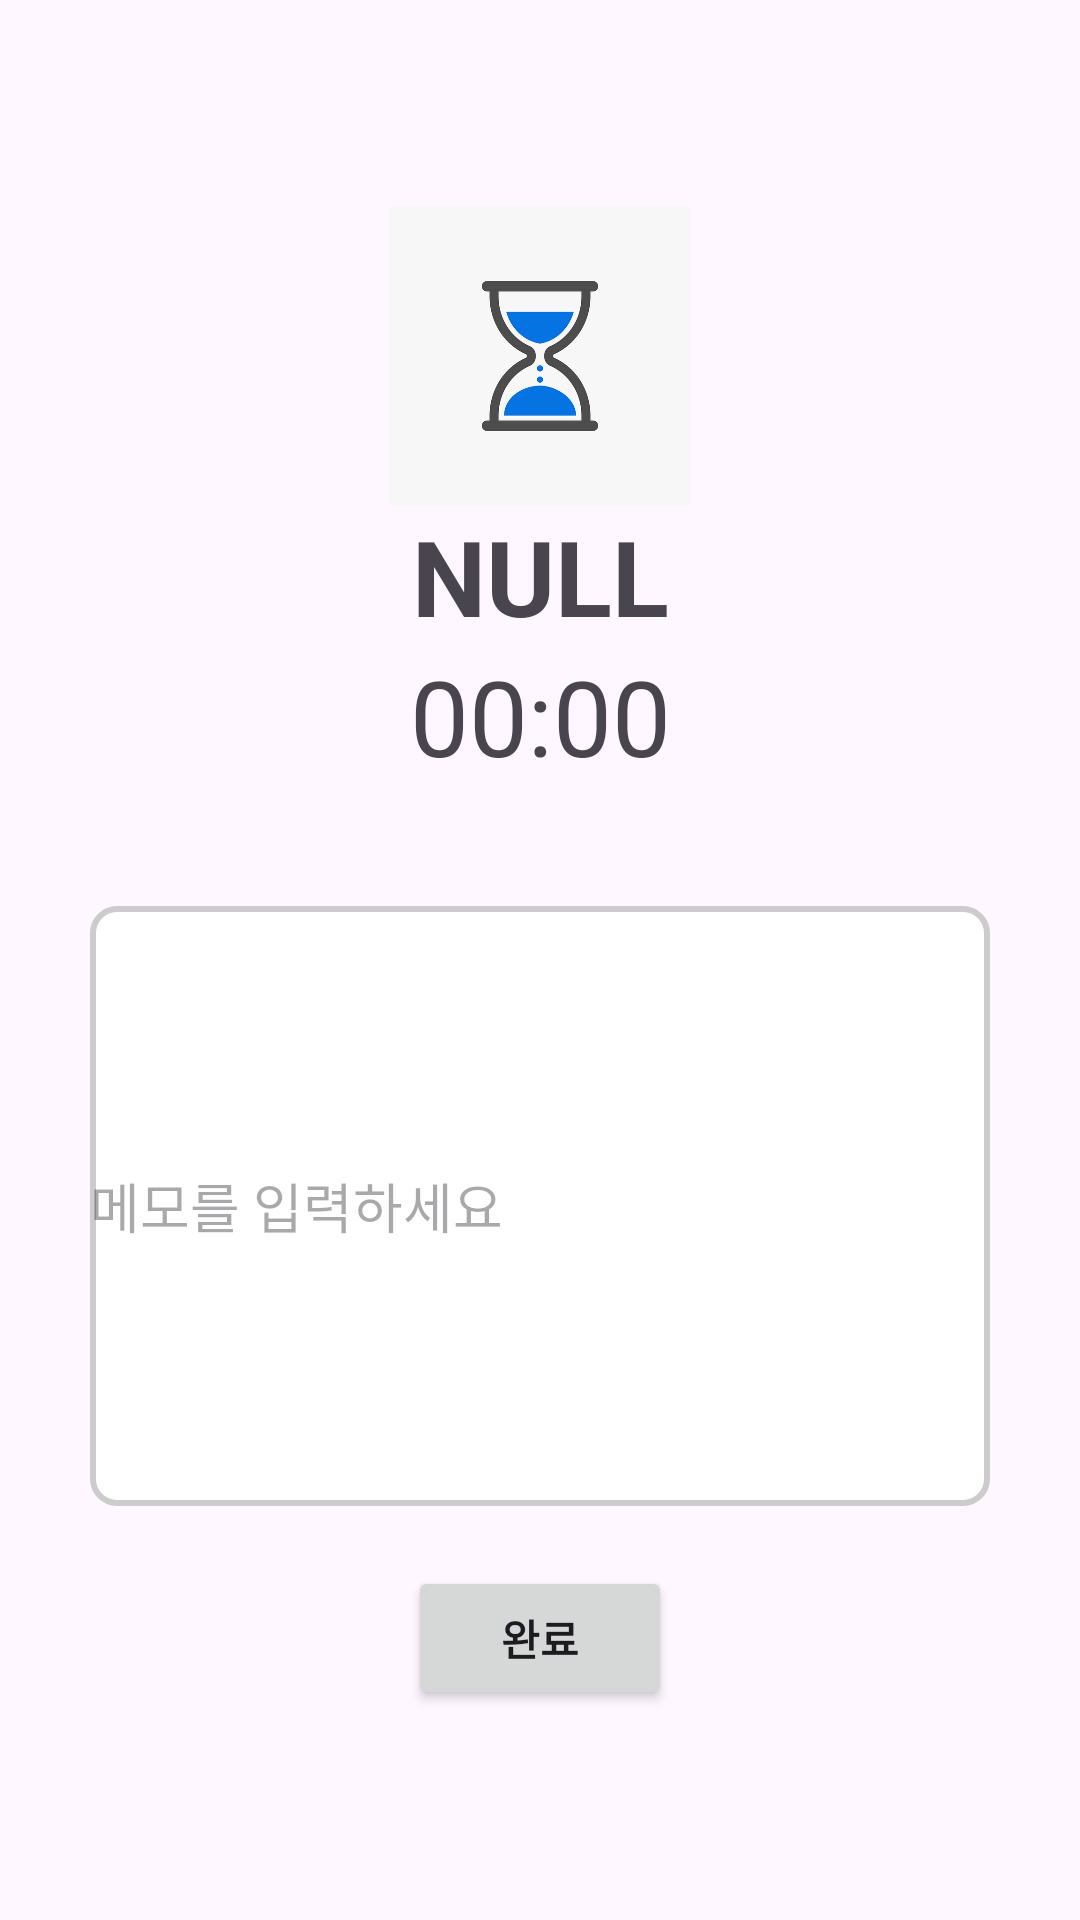

Where icons sit on this 1080×1920 app screen, as (x1, y1, x2, y2):
timer: (482, 281, 598, 431)
